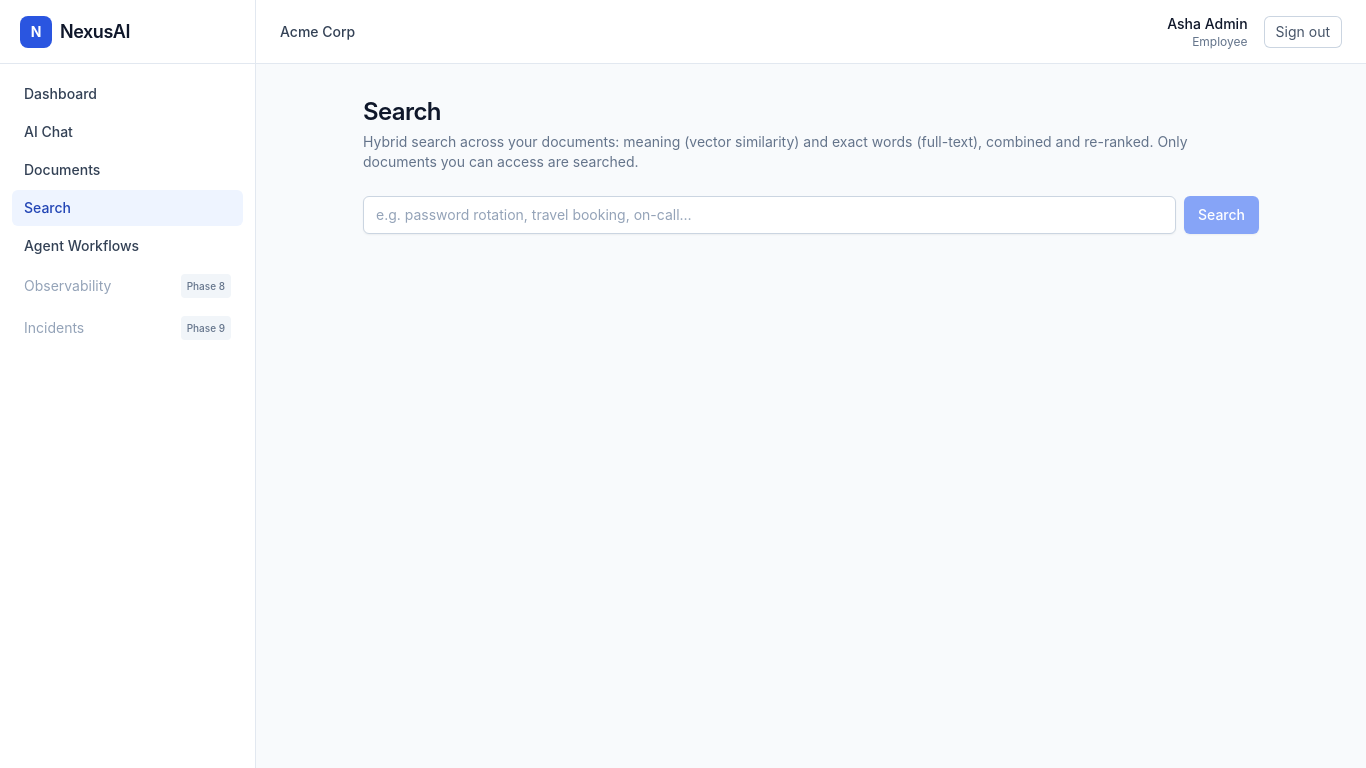
Test: Search › says when nothing matches
Type "quantum" into the search field named "Search query". click: (770, 215)
box: x1=363 y1=196 x2=1176 y2=234
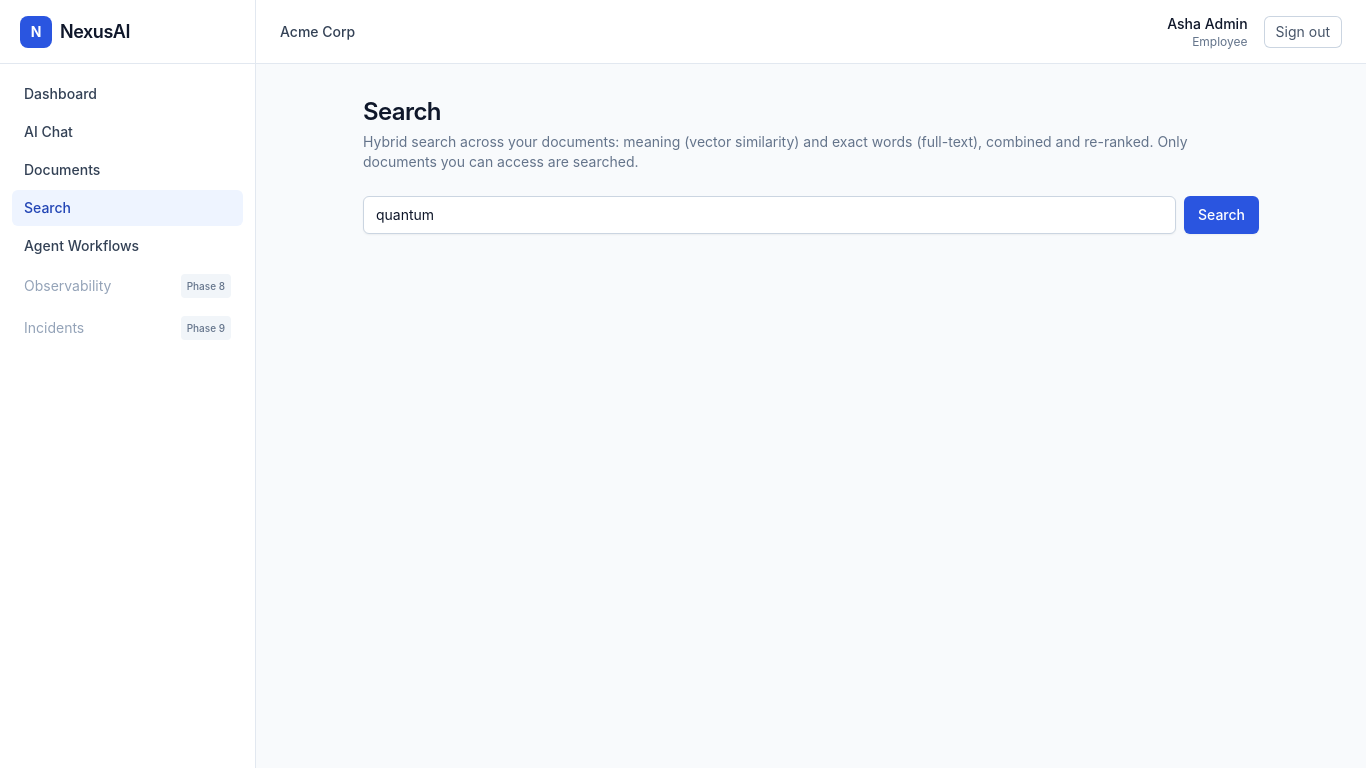
Click the button "Search". click: (1222, 215)
box: x1=1184 y1=196 x2=1259 y2=234
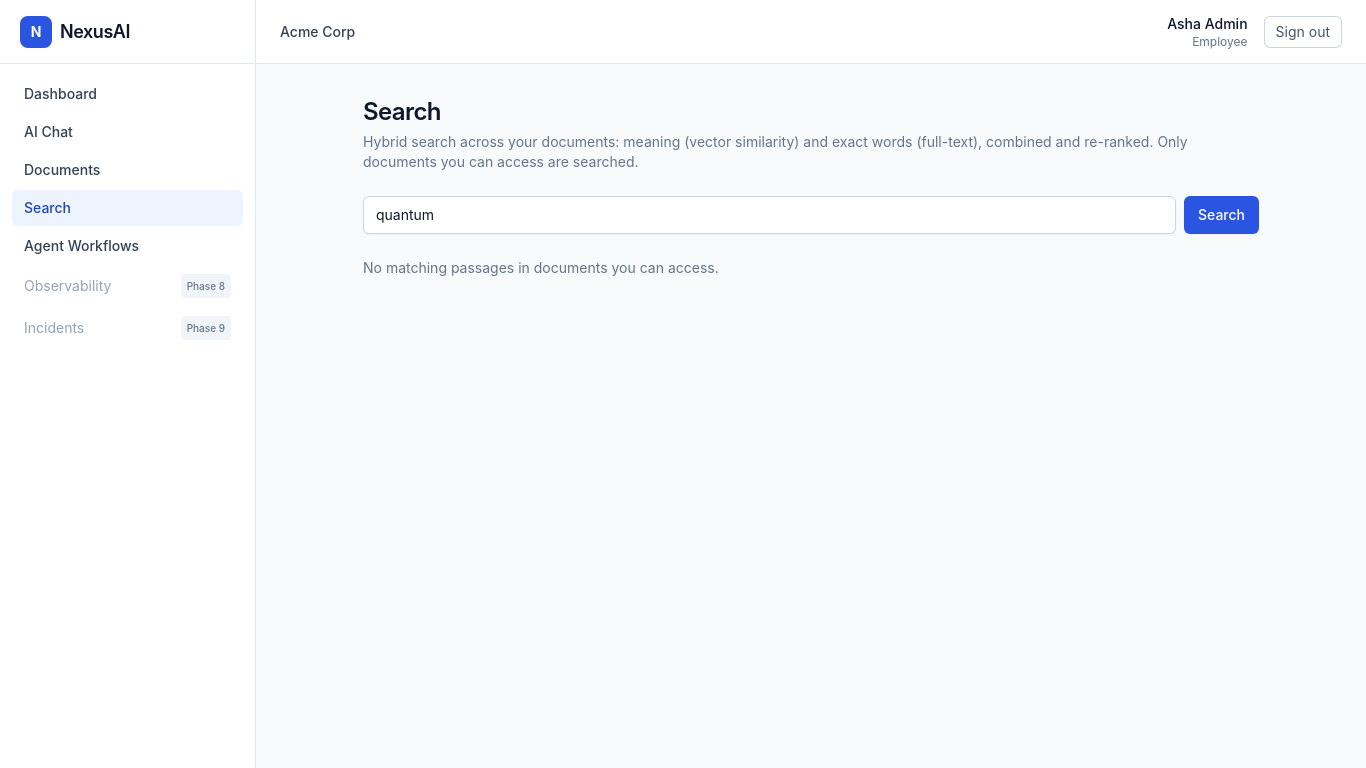
Result: the text "No matching passages in documents you can access." is shown at x1=363 y1=259 x2=719 y2=276
